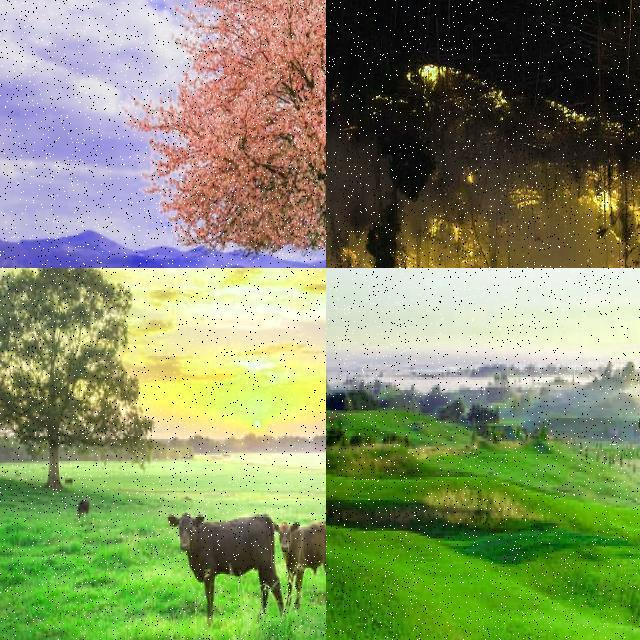tree: (130, 0, 326, 268), (1, 268, 148, 496), (365, 162, 401, 268), (390, 135, 434, 207), (614, 174, 640, 268)
